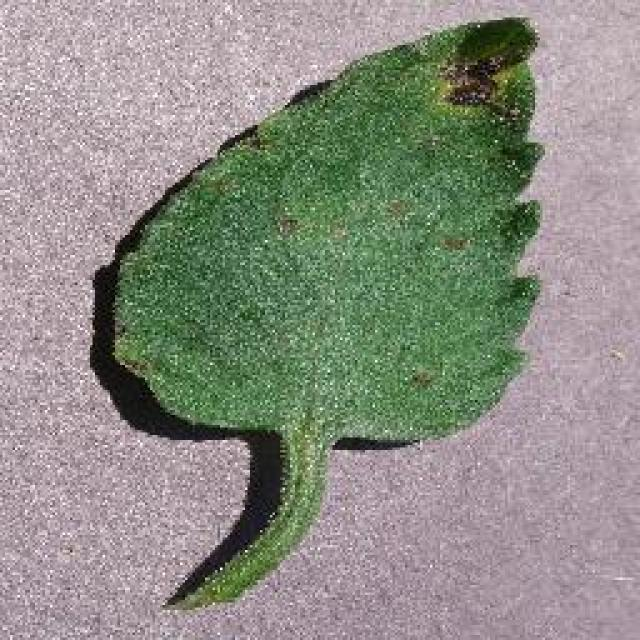Tomato___Septoria_leaf_spot: (115, 18, 540, 602)
